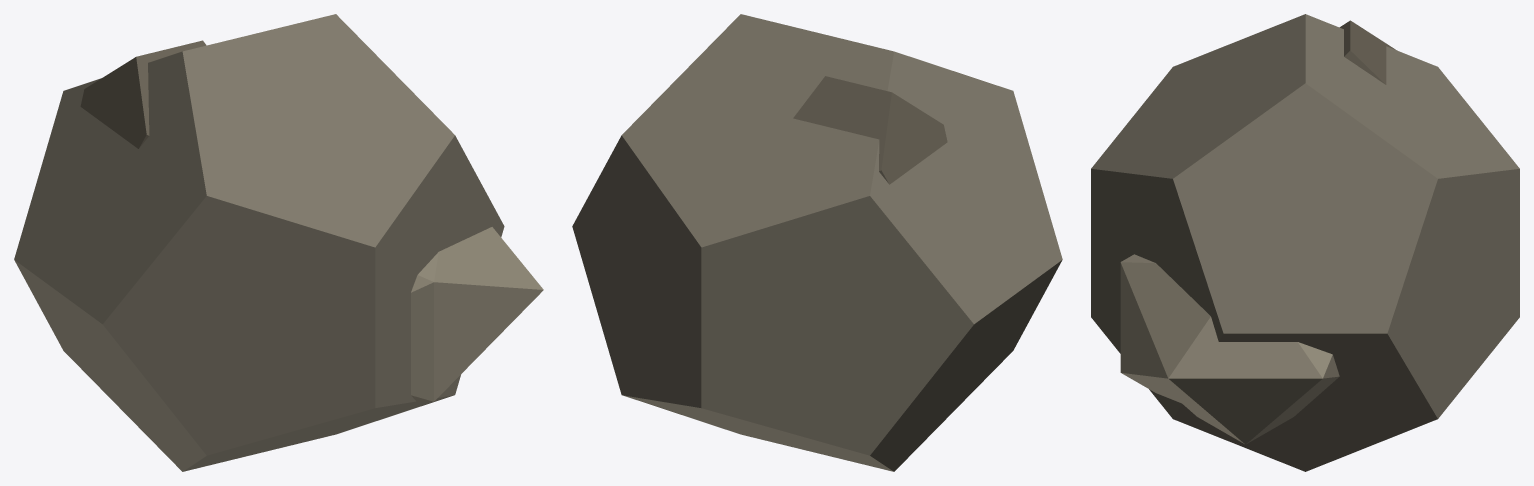
Rendered from rock-0.glb.
The picture shows the model from 3 angles, left to right: view 1: azimuth 30°, elevation 25°; view 2: azimuth 150°, elevation 25°; view 3: azimuth 270°, elevation 25°; orthographic projection. The views are drawn at different scales.
Visible parts, largest first — view 1: rock-0; view 2: rock-0; view 3: rock-0.
Boxes of the visible parts, box(x1,y1,x2,y2) form: rock-0: box(14, 14, 543, 471); rock-0: box(572, 14, 1062, 471); rock-0: box(1091, 14, 1519, 471).
Bounding box in the file's own units: 1.76 × 1.72 × 1.72.
